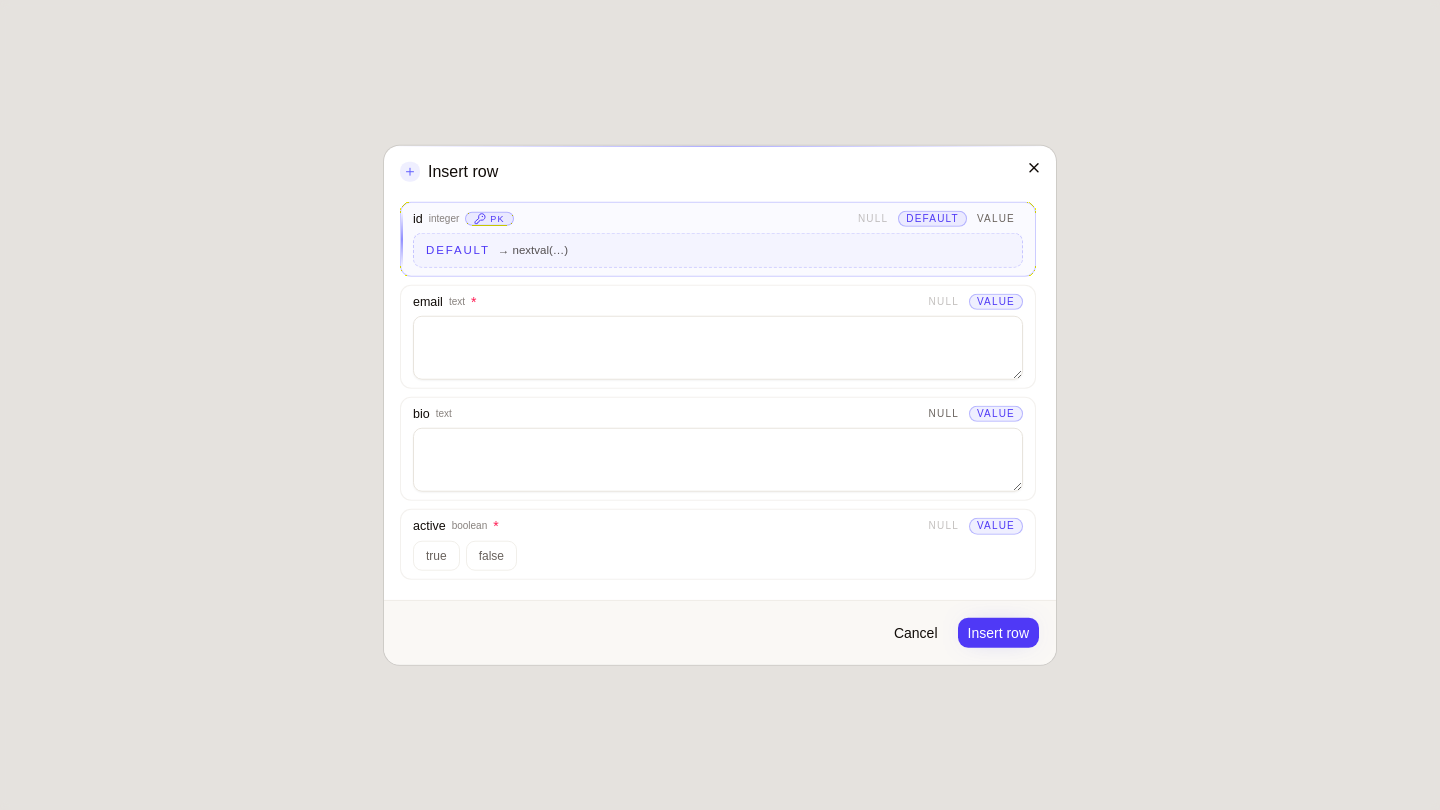
Test case: RowFormDialog › surfaces the server error and keeps the dialog open on failure
This screenshot has width=1440, height=810.
Type "a@example.com" into the text box named "email".
click(718, 348); type("a@example.com")  # box [413,316,1023,380]
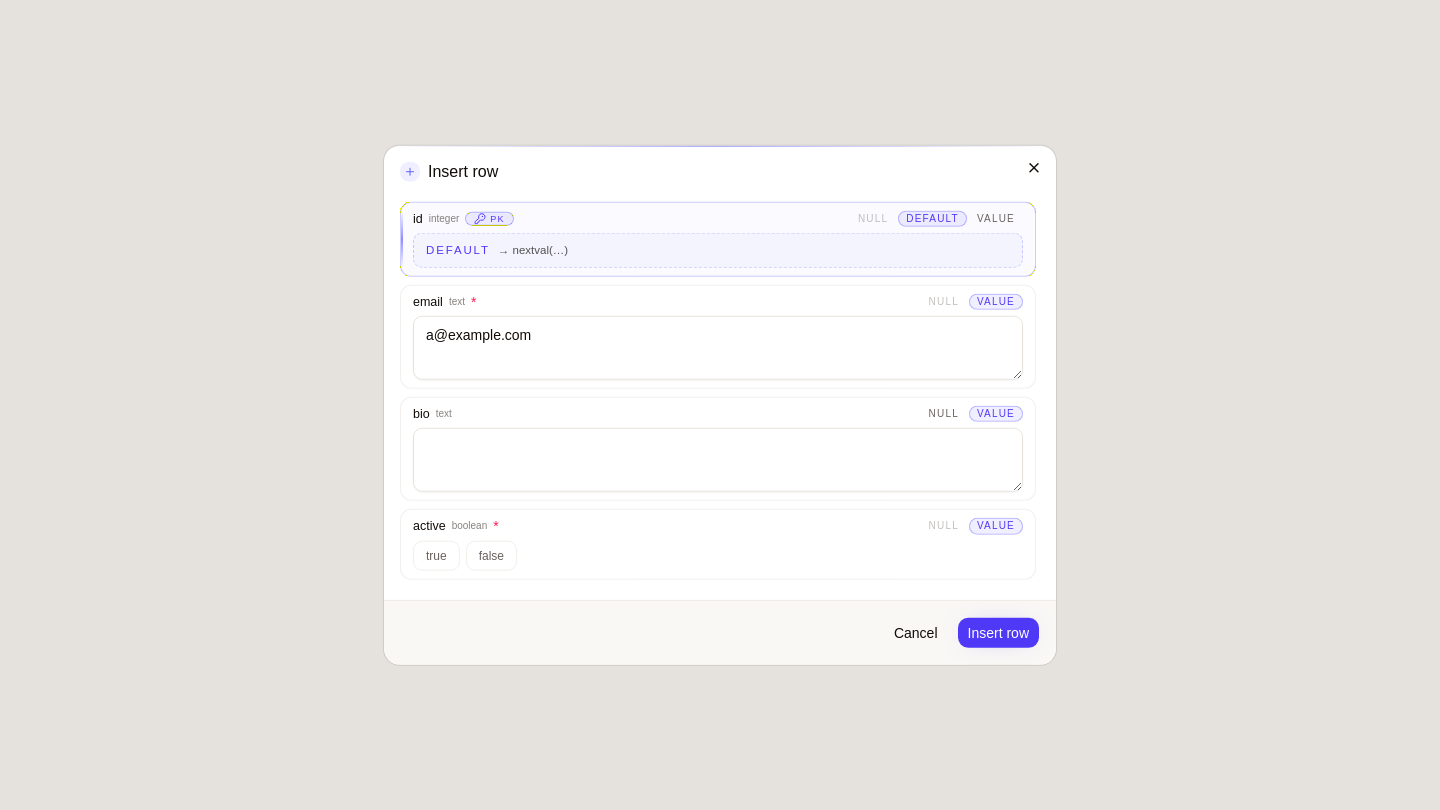
Click the button "Insert row".
click(998, 632)  # box [956,616,1040,648]
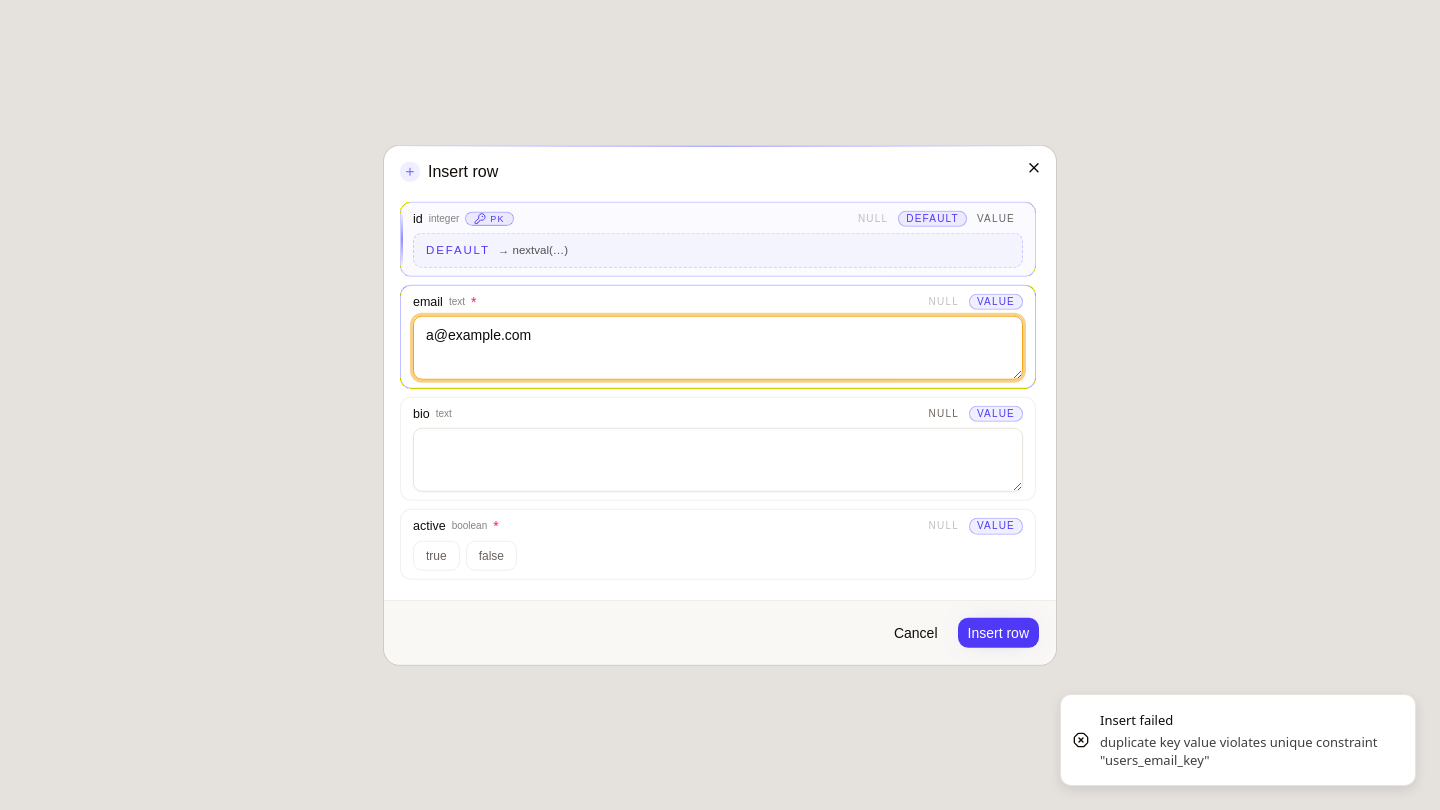
Now the text "duplicate key value" is shown, box [1100,733,1378,769]
